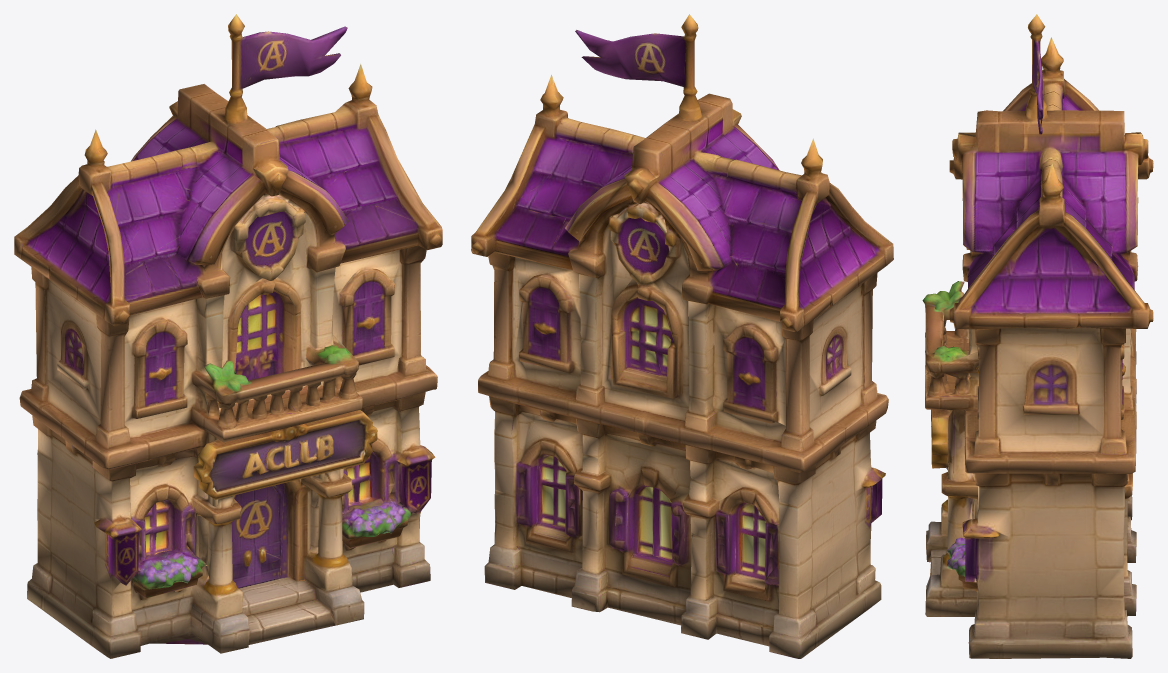
The model's file is aclub.glb.
3 views of the same model, side by side, from view 1: azimuth 30°, elevation 25°; view 2: azimuth 150°, elevation 25°; view 3: azimuth 270°, elevation 25° (orthographic). The views are drawn at different scales.
Visible parts, largest first — view 1: Mesh1.0; view 2: Mesh1.0; view 3: Mesh1.0.
Boxes of the visible parts, bbox=[...] form: Mesh1.0: bbox=[14, 14, 442, 658]; Mesh1.0: bbox=[471, 14, 893, 658]; Mesh1.0: bbox=[922, 14, 1153, 658].
Bounding box in the file's own units: 1.14 × 1.9 × 0.698.
1 material, 1 textured.
